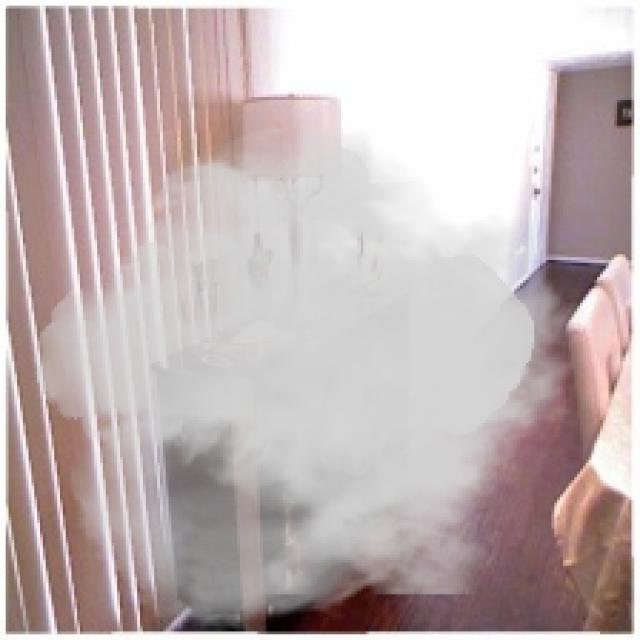Smoke: (34, 120, 594, 637)
